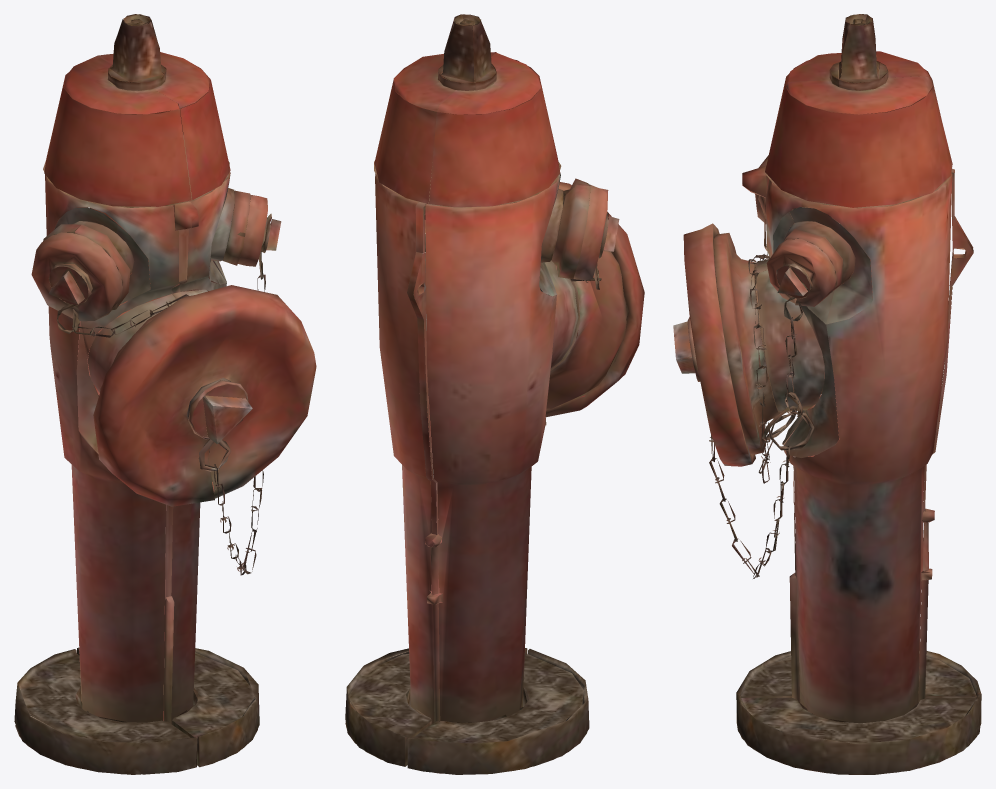
The model's file is hydrant.glb.
3 views of the same model, side by side, from view 1: azimuth 30°, elevation 25°; view 2: azimuth 150°, elevation 25°; view 3: azimuth 270°, elevation 25° (orthographic).
Parts seen in each view (by area): view 1: hydrant; view 2: hydrant; view 3: hydrant.
Part boxes in pixels (box(x1,y1,x2,y2)): hydrant: box(14, 14, 316, 774); hydrant: box(345, 14, 644, 774); hydrant: box(673, 14, 981, 774).
Size of the model in its own units: 0.2742 by 0.8003 by 0.3177.
1 material, 1 textured.
